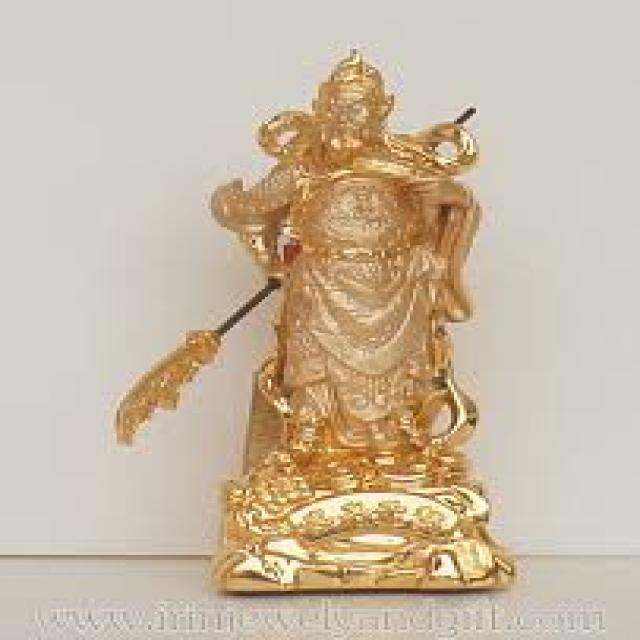Guan Yu: (220, 44, 474, 445)
